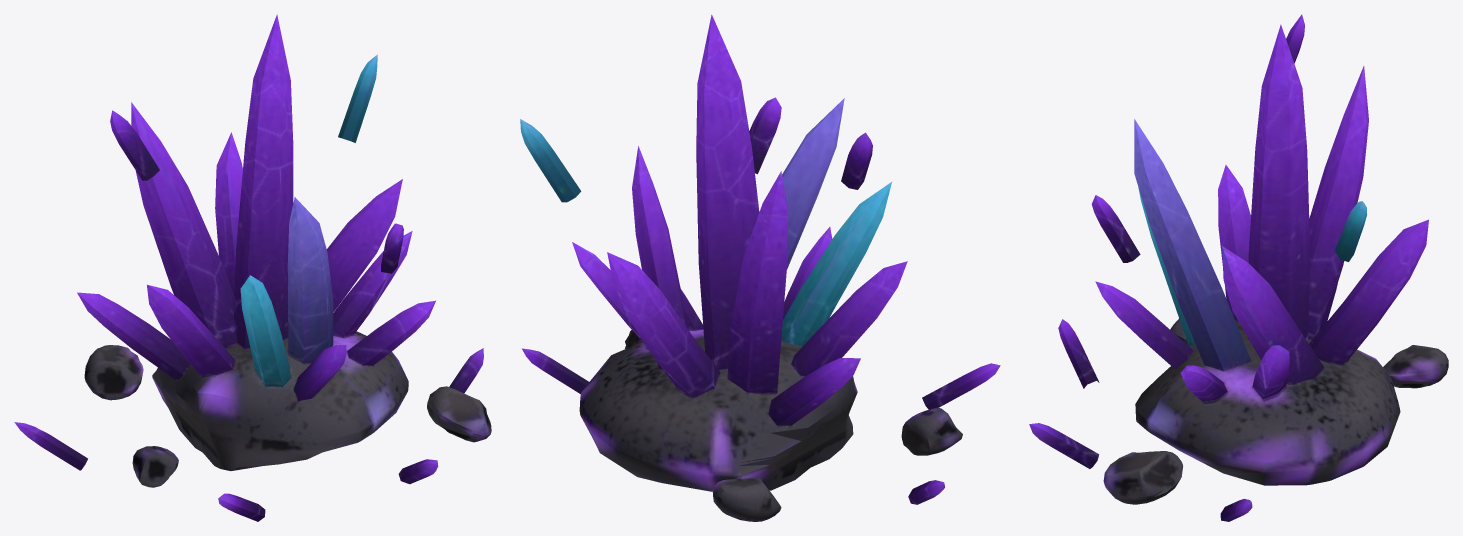
Rendered from abyss_crystal.glb.
The picture shows the model from 3 angles, left to right: view 1: azimuth 30°, elevation 25°; view 2: azimuth 150°, elevation 25°; view 3: azimuth 270°, elevation 25°; orthographic projection. The views are drawn at different scales.
Parts seen in each view (by area): view 1: abyss_crystal; view 2: abyss_crystal; view 3: abyss_crystal.
Boxes of the visible parts, x1,y1,x2,y2 form: abyss_crystal: (14, 14, 491, 521); abyss_crystal: (520, 14, 1000, 521); abyss_crystal: (1029, 14, 1448, 521).
Size of the model in its own units: 1.64 by 1.51 by 1.34.
1 material, 1 textured.
